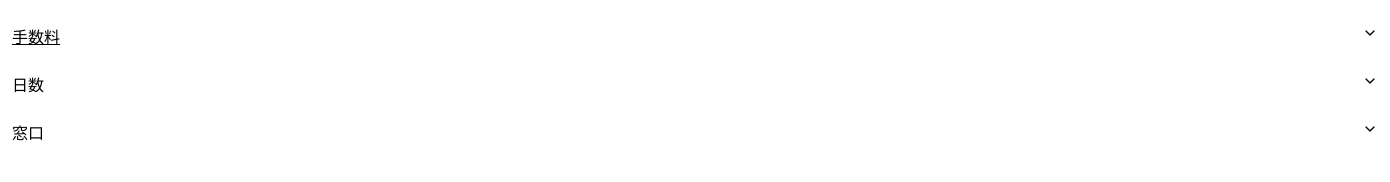
Scenario: Accordion › tells the open state through aria-expanded and names the region after the heading
What coordinates should you click on to do the following:
click the button "手数料"
I would click on:
 (36, 38)
Its box is [12, 12, 1378, 60].
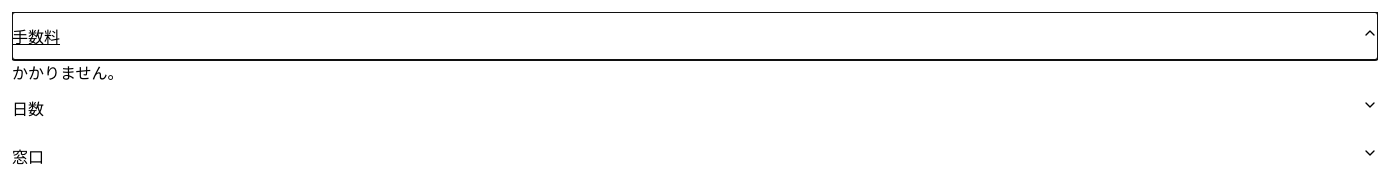
Now the button "手数料" is expanded, box [12, 12, 1378, 60]
Now the text named "手数料" reads "かかりません。", box [12, 65, 124, 82]
